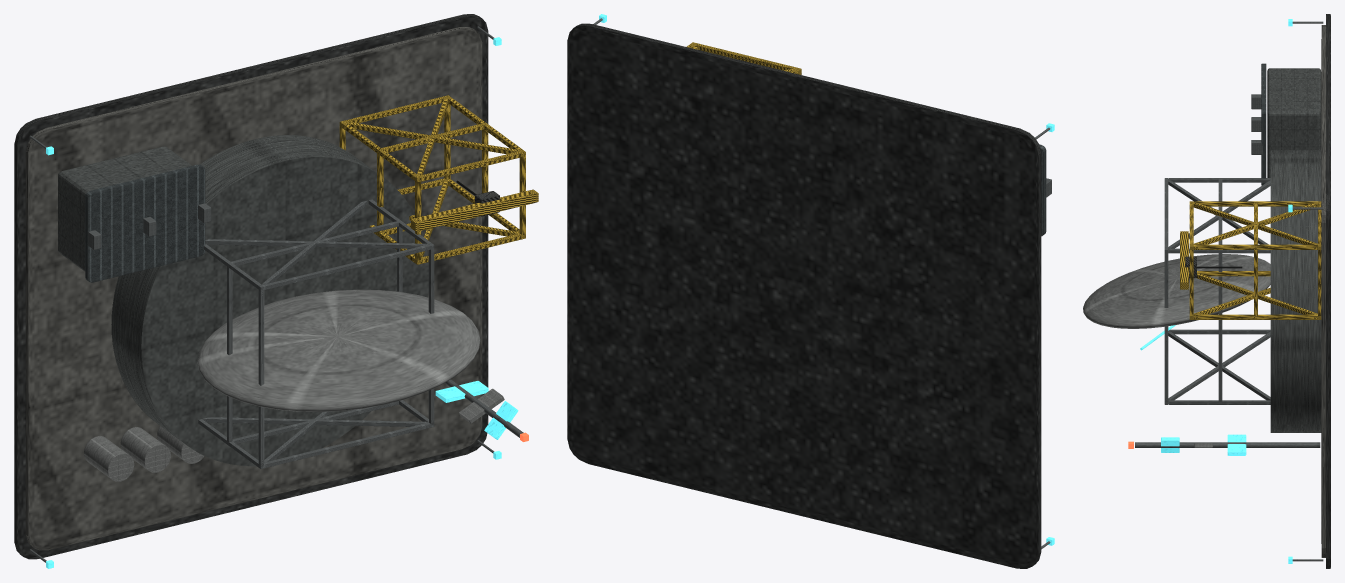
The model's file is b-44-uplink-lod0.glb.
The picture shows the model from 3 angles, left to right: view 1: azimuth 30°, elevation 25°; view 2: azimuth 150°, elevation 25°; view 3: azimuth 270°, elevation 25°; orthographic projection. The views are drawn at different scales.
Parts seen in each view (by area): view 1: foundation_inner_pad, primary_concrete_mound, primary_uplink_dish_dish, foundation, uplink_substation_roof, uplink_substation_main_hall, uplink_service_crane_bridge, uplink_chiller_0, uplink_chiller_1, uplink_dish_frame_brace_a_3.25, uplink_dish_frame_brace_a_-3.25, uplink_service_crane_brace_a_1.5 (+15 smaller); view 2: foundation, uplink_service_crane_beam_x_2_n; view 3: primary_concrete_mound, primary_uplink_dish_dish, uplink_substation_main_hall, foundation, foundation_inner_pad, tracking_mast_main, uplink_service_crane_column_e_n, uplink_service_crane_column_e_s, uplink_service_crane_brace_b_1.5, uplink_service_crane_brace_b_-1.5, uplink_service_crane_brace_a_1.5, uplink_substation_roof (+17 smaller).
Boxes of the visible parts, left/top/right/bottom form: foundation_inner_pad: left=25, top=27, right=482, bottom=550; primary_concrete_mound: left=111, top=135, right=428, bottom=466; primary_uplink_dish_dish: left=197, top=289, right=480, bottom=411; foundation: left=14, top=14, right=488, bottom=559; uplink_substation_roof: left=85, top=164, right=205, bottom=282; uplink_substation_main_hall: left=58, top=146, right=191, bottom=271; uplink_service_crane_bridge: left=411, top=189, right=538, bottom=231; uplink_chiller_0: left=84, top=436, right=134, bottom=481; uplink_chiller_1: left=120, top=427, right=170, bottom=472; uplink_dish_frame_brace_a_3.25: left=205, top=239, right=428, bottom=248; uplink_dish_frame_brace_a_-3.25: left=203, top=417, right=428, bottom=426; uplink_service_crane_brace_a_1.5: left=346, top=121, right=519, bottom=154; foundation: left=567, top=23, right=1041, bottom=568; uplink_service_crane_beam_x_2_n: left=694, top=43, right=801, bottom=74; primary_concrete_mound: left=1270, top=150, right=1321, bottom=432; primary_uplink_dish_dish: left=1083, top=254, right=1270, bottom=328; uplink_substation_main_hall: left=1267, top=68, right=1321, bottom=177; foundation: left=1326, top=14, right=1330, bottom=568; foundation_inner_pad: left=1321, top=25, right=1325, bottom=557; tracking_mast_main: left=1135, top=442, right=1320, bottom=447; uplink_service_crane_column_e_n: left=1193, top=244, right=1318, bottom=249; uplink_service_crane_column_e_s: left=1193, top=314, right=1318, bottom=319; uplink_service_crane_brace_b_1.5: left=1193, top=202, right=1318, bottom=244; uplink_service_crane_brace_b_-1.5: left=1197, top=273, right=1317, bottom=314; uplink_service_crane_brace_a_1.5: left=1193, top=203, right=1318, bottom=244; uplink_substation_roof: left=1261, top=63, right=1266, bottom=185.
Size of what is drawn, in the model's own units: 18 by 16 by 9.65.
11 materials, 11 textured.
